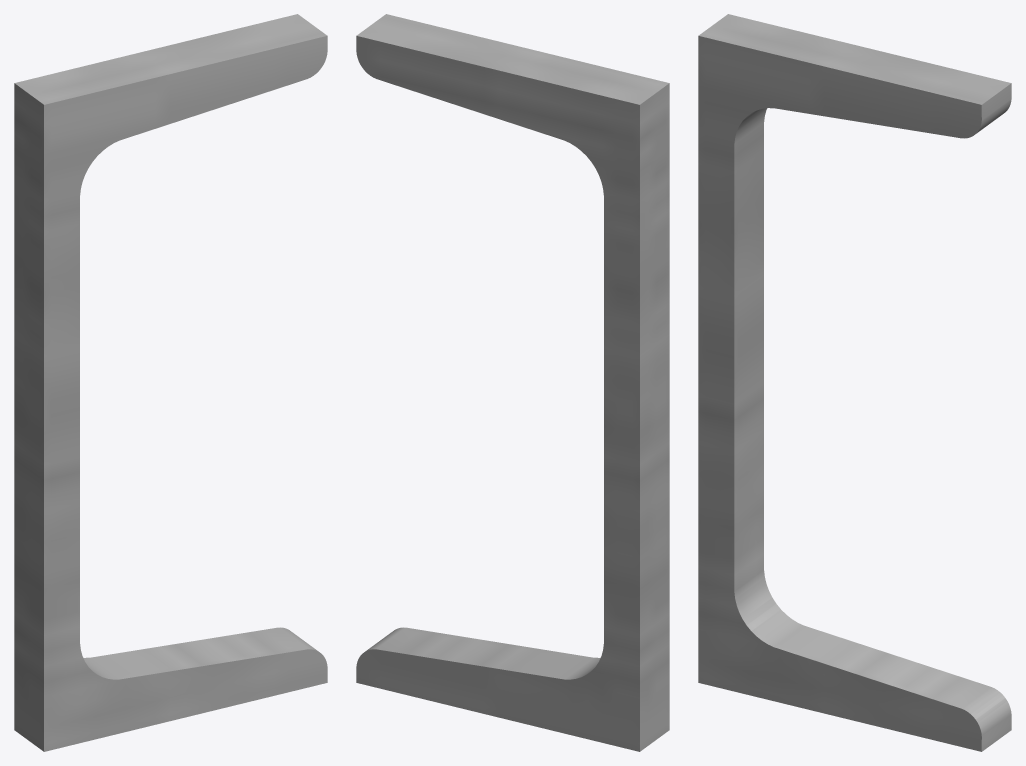
Rendered from UPN120.glb.
3 views of the same model, side by side, from view 1: azimuth 30°, elevation 25°; view 2: azimuth 150°, elevation 25°; view 3: azimuth 330°, elevation 25° (orthographic).
Bounding box in the file's own units: 5.5 × 12 × 1.
Materials: 1 (1 with a texture image).
